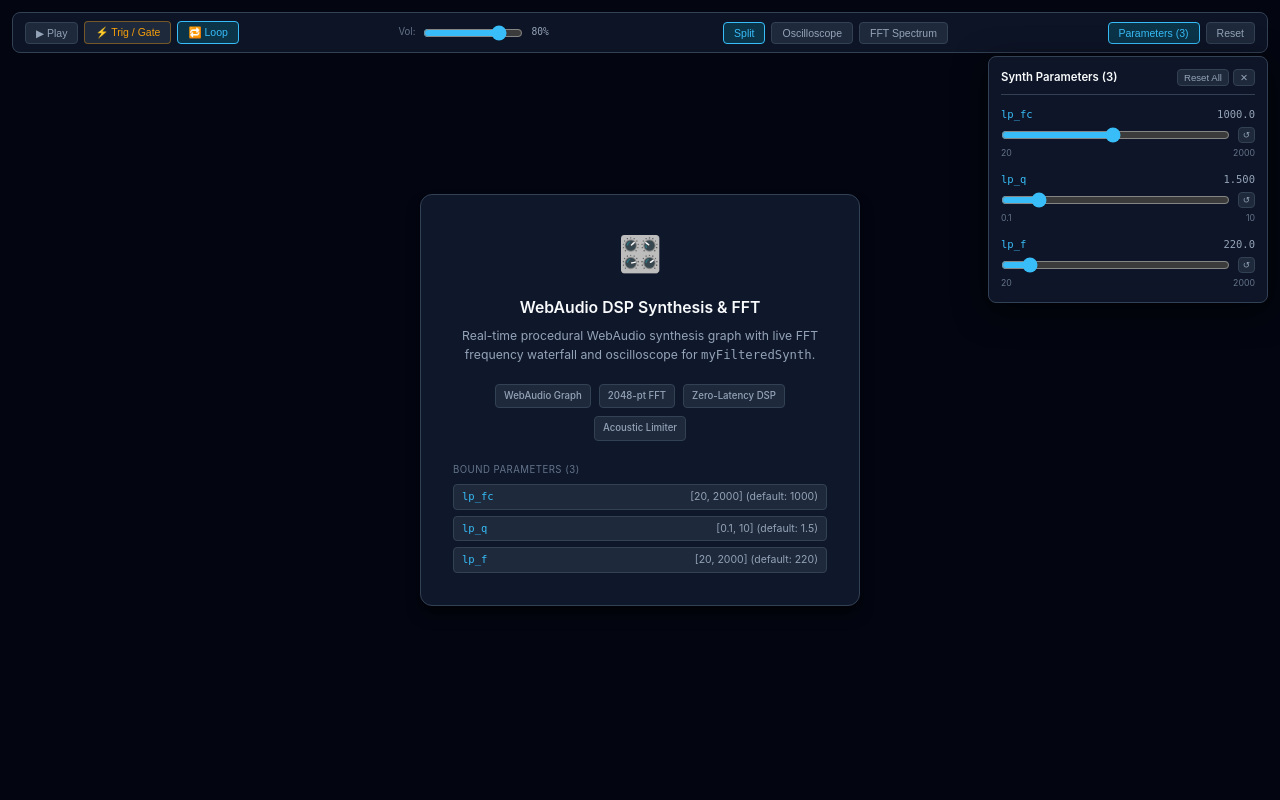
AudioDSPWidget Component › toggles the in-viewport synth parameters drawer overlay
Expected: the element with test id "audio-param-overlay" is shown, [988, 56, 1268, 303]
Close via drawer close button
What coordinates should you click on to do the following:
click the button with test id "close-audio-parameters-btn"
I would click on:
 (1244, 78)
Its box is [1233, 69, 1255, 86].
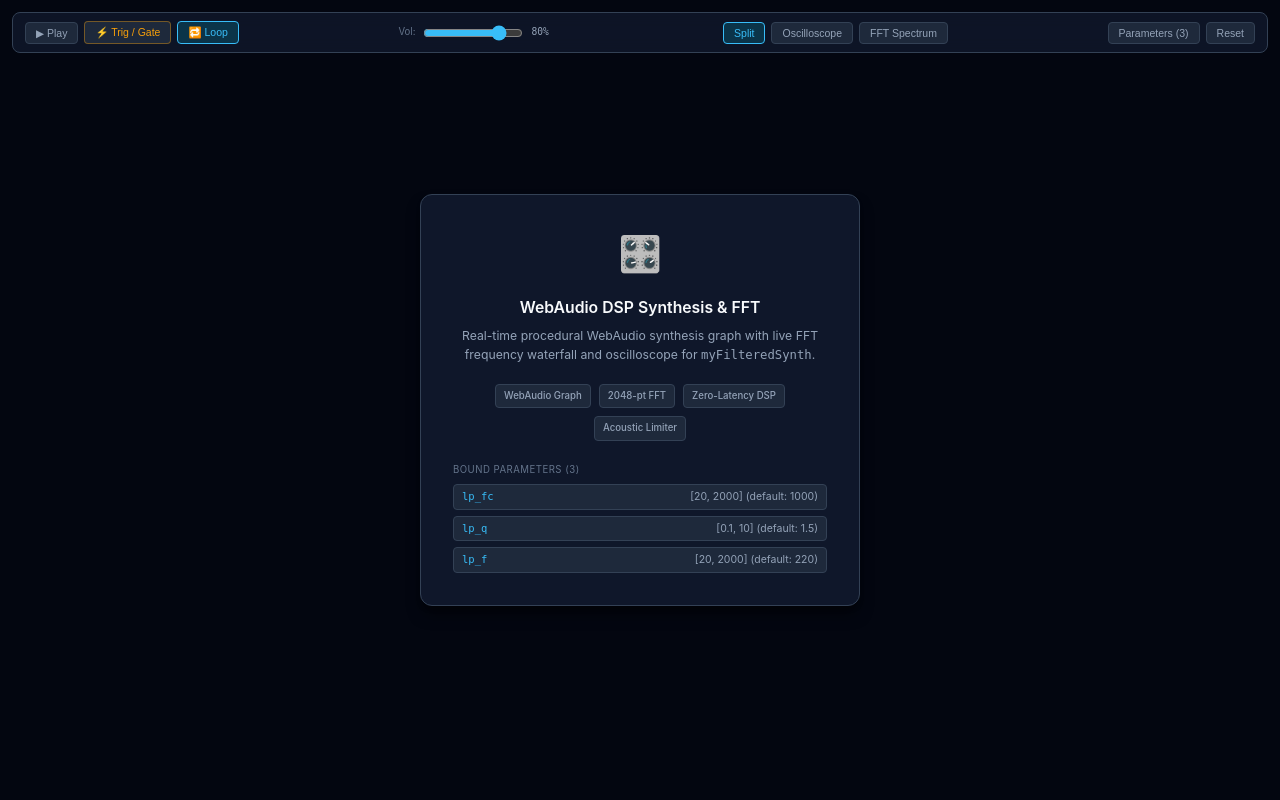
Expected: the element with test id "audio-param-overlay" is gone
Reopen via toolbar button
What coordinates should you click on to do the following:
click the button with test id "toggle-audio-parameters-btn"
I would click on:
 (1154, 32)
Its box is [1108, 22, 1200, 44].
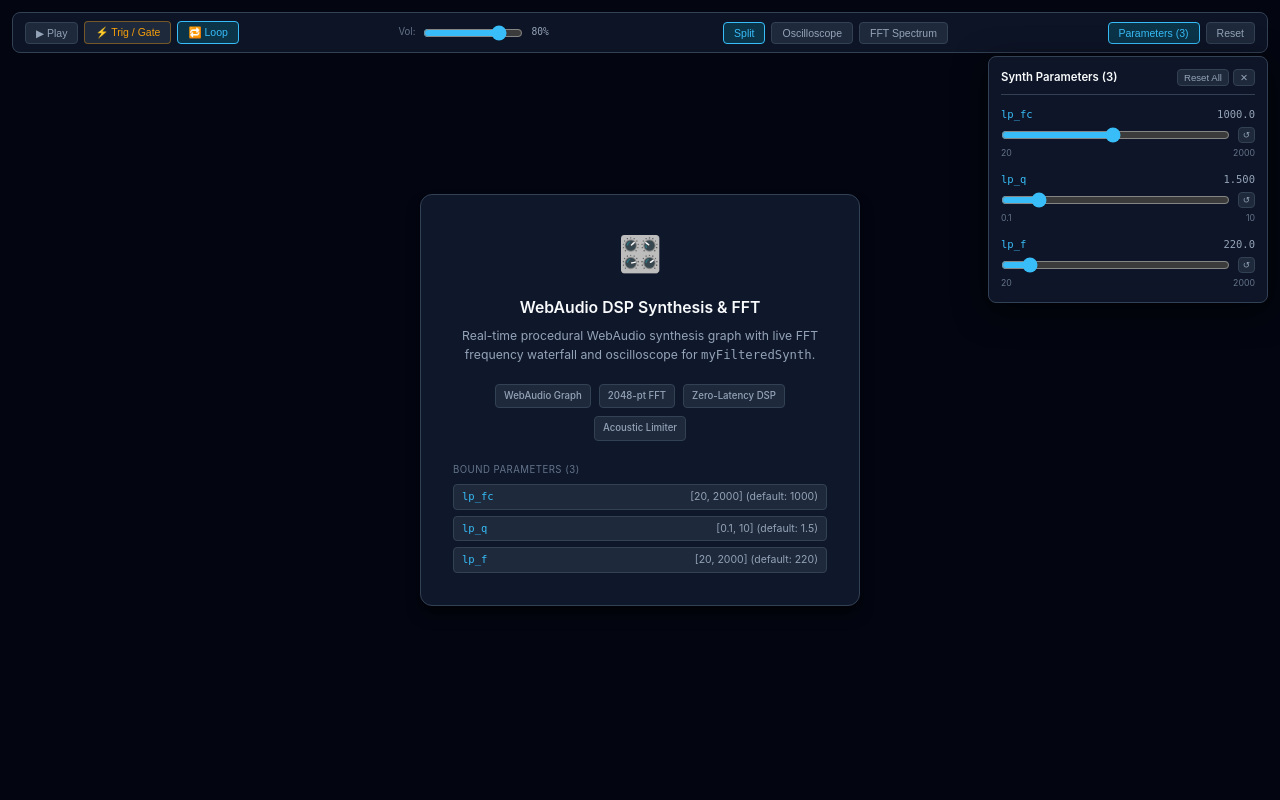
Expected: the element with test id "audio-param-overlay" is shown, [988, 56, 1268, 303]
